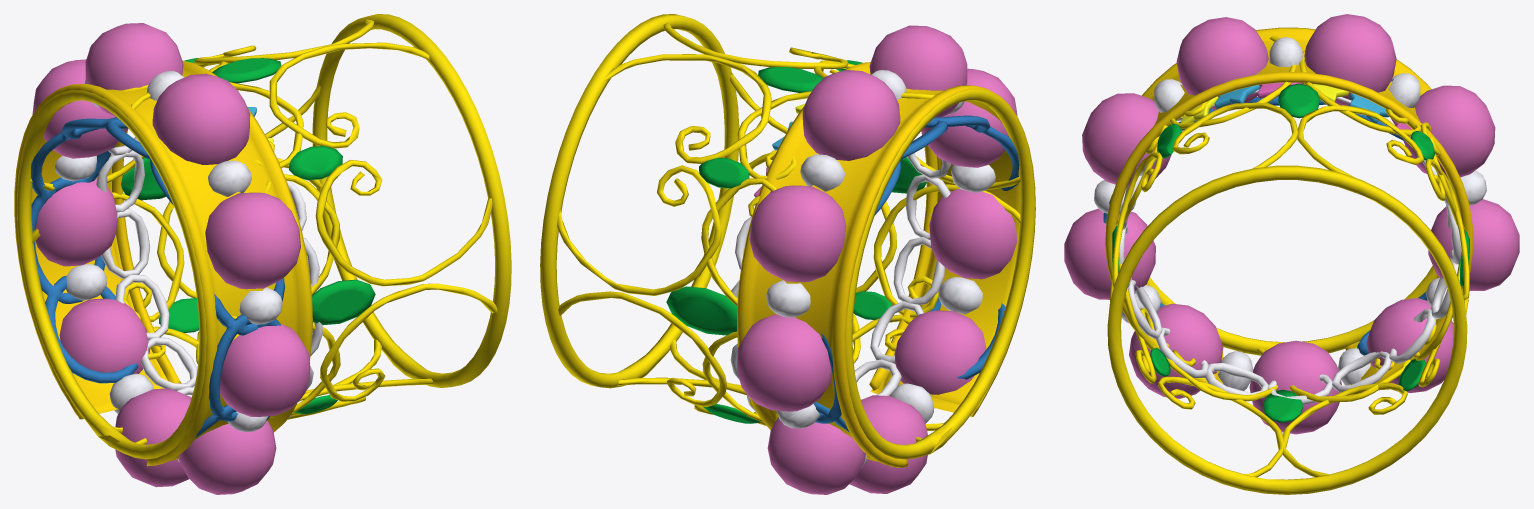
3 views of the same model, side by side, from view 1: azimuth 30°, elevation 25°; view 2: azimuth 150°, elevation 25°; view 3: azimuth 270°, elevation 25° (orthographic). The views are drawn at different scales.
Visible parts, largest first — view 1: sh2, sh1, sh4, sh3, sh5; view 2: sh2, sh1, sh4, sh5, sh3; view 3: sh2, sh1, sh4, sh5, sh3.
Part boxes in pixels (x1,y1,x2,y2): sh2: (32, 23, 310, 494); sh1: (17, 14, 511, 459); sh4: (14, 60, 312, 466); sh3: (31, 117, 284, 438); sh5: (96, 107, 322, 418); sh2: (736, 25, 1017, 494); sh1: (540, 14, 1035, 459); sh4: (737, 62, 1035, 467); sh5: (730, 104, 950, 412); sh3: (813, 115, 1019, 432); sh2: (1064, 14, 1519, 434); sh1: (1107, 32, 1469, 494); sh4: (1105, 27, 1473, 395); sh5: (1119, 82, 1461, 404); sh3: (1103, 96, 1453, 355).
Size of the model in its own units: 3.65 by 4.9 by 4.92.
